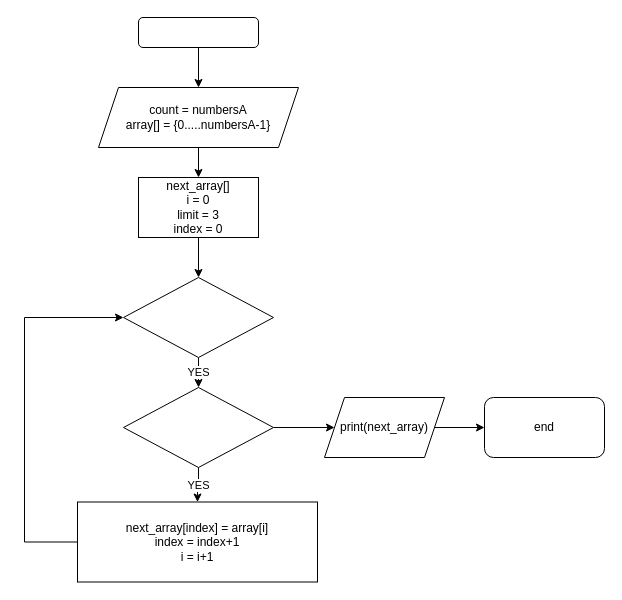
This 622x600 diagram has some shape labels left out. The box of each missing label's shape, as (x1, y1, x2, y2) in pixels:
array[i] <= limit: (122, 386, 274, 468)
i < count: (122, 276, 274, 358)
Start: (138, 16, 258, 48)
